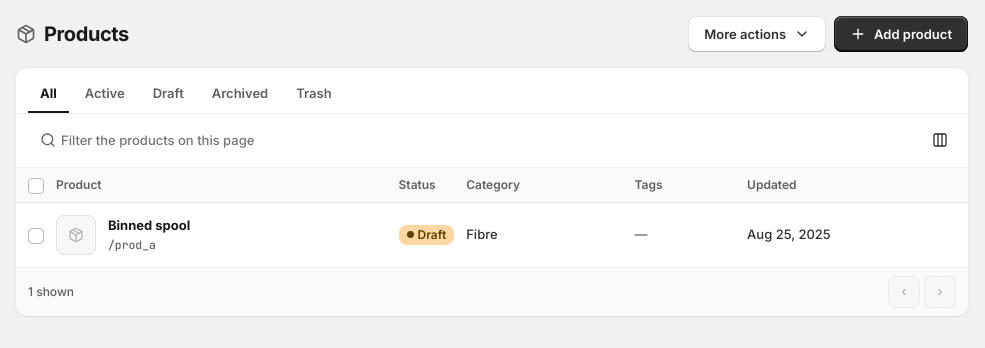
Test: the trash tab on the product list › offers ONLY Restore in the trash — every other bulk action is a no-op on a deleted row
Click the tab "Trash". click: (314, 94)
box: [284,76,344,113]
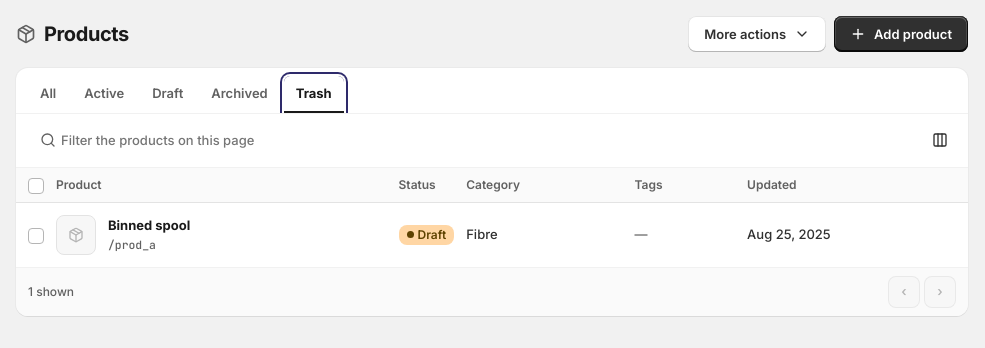
Expected: the link "Binned spool" is shown, [108,216,190,235]
Click the checkbox named "Select row". click: (36, 236)
box: [28,228,44,244]
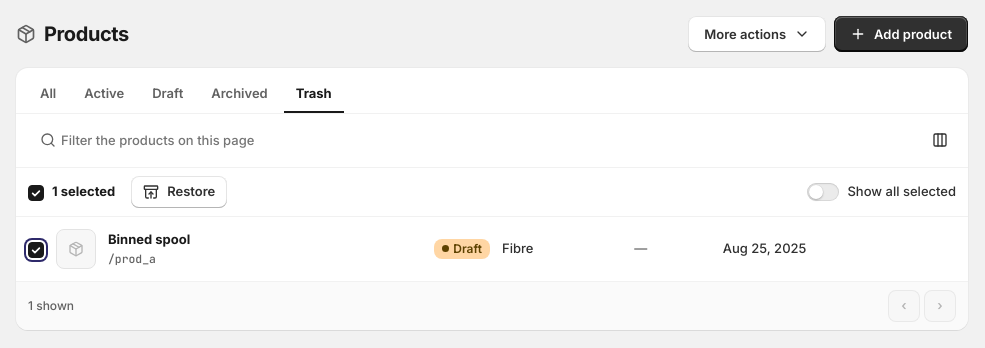
Result: the button "Restore" is shown at [131,176,227,208]
